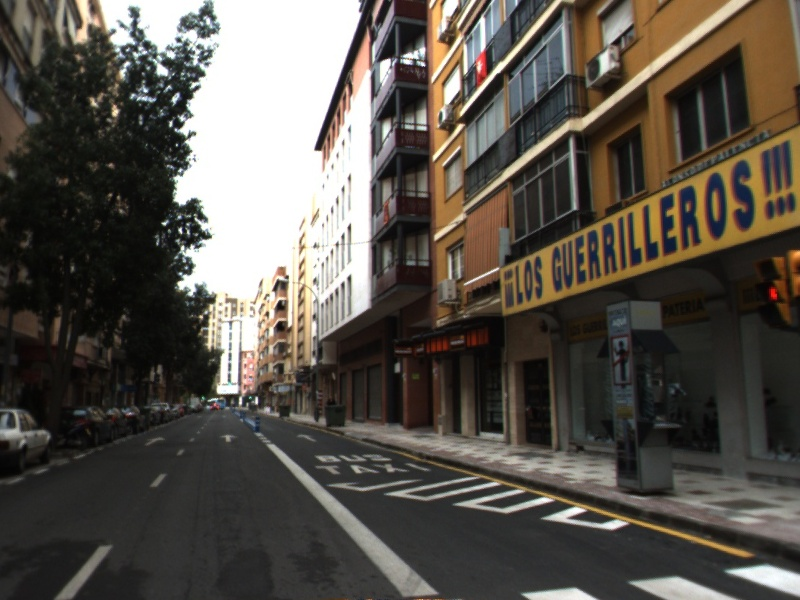STRAIGHT: (142, 434, 168, 448), (294, 432, 319, 443), (218, 432, 240, 444)
